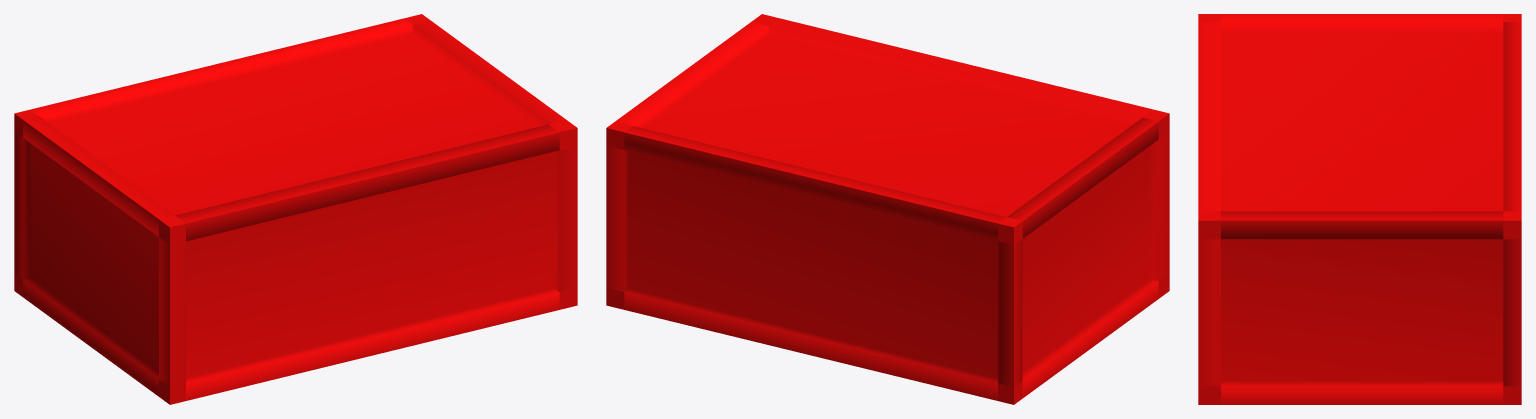
Rendered from BoxEraseRed.fbx.
The picture shows the model from 3 angles, left to right: view 1: azimuth 30°, elevation 25°; view 2: azimuth 150°, elevation 25°; view 3: azimuth 270°, elevation 25°; orthographic projection. The views are drawn at different scales.
Parts seen in each view (by area): view 1: pCube1; view 2: pCube1; view 3: pCube1.
Part boxes in pixels (x1,y1,x2,y2): pCube1: (14,14,577,404); pCube1: (606,14,1169,404); pCube1: (1198,14,1521,404).
Size of the model in its own units: 12.04 by 5.01 by 7.97.
